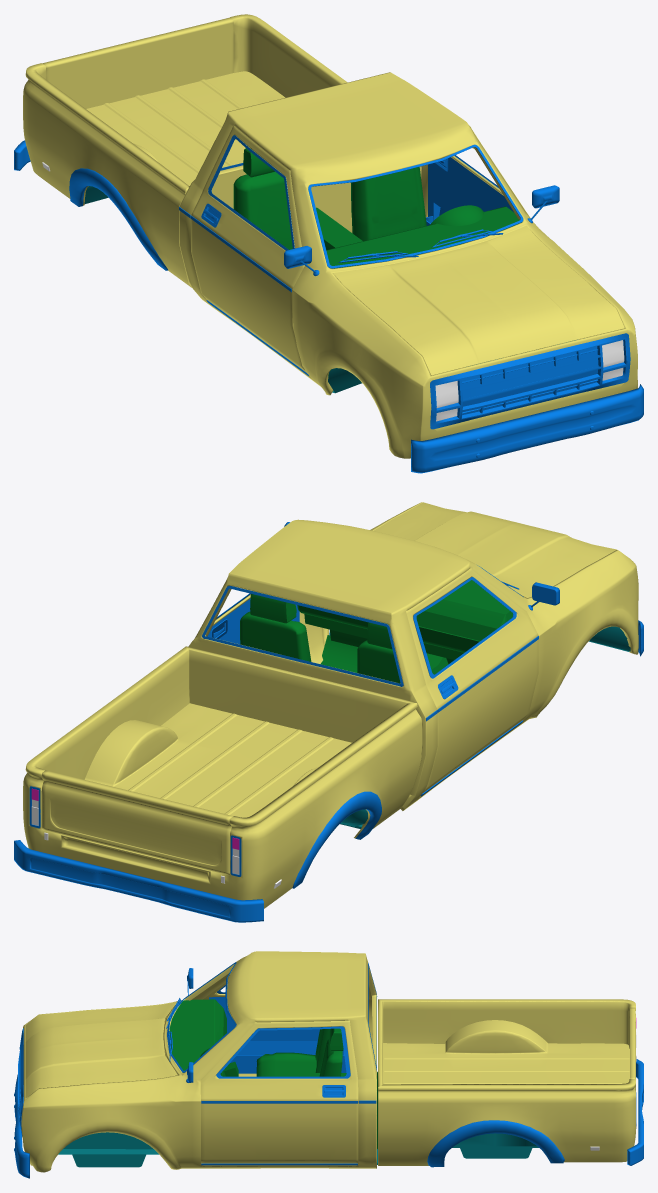
The model's file is PickUp_Lod0.fbx.
3 views of the same model, one above another, from view 1: azimuth 30°, elevation 25°; view 2: azimuth 150°, elevation 25°; view 3: azimuth 270°, elevation 25° (orthographic). The views are drawn at different scales.
Visible parts, largest first — view 1: PickUp_Lod0; view 2: PickUp_Lod0; view 3: PickUp_Lod0.
Boxes of the visible parts, <box> form: PickUp_Lod0: <box>14,14,643,473</box>; PickUp_Lod0: <box>14,502,643,922</box>; PickUp_Lod0: <box>14,951,643,1178</box>.
Size of the model in its own units: 232 by 164 by 595.
